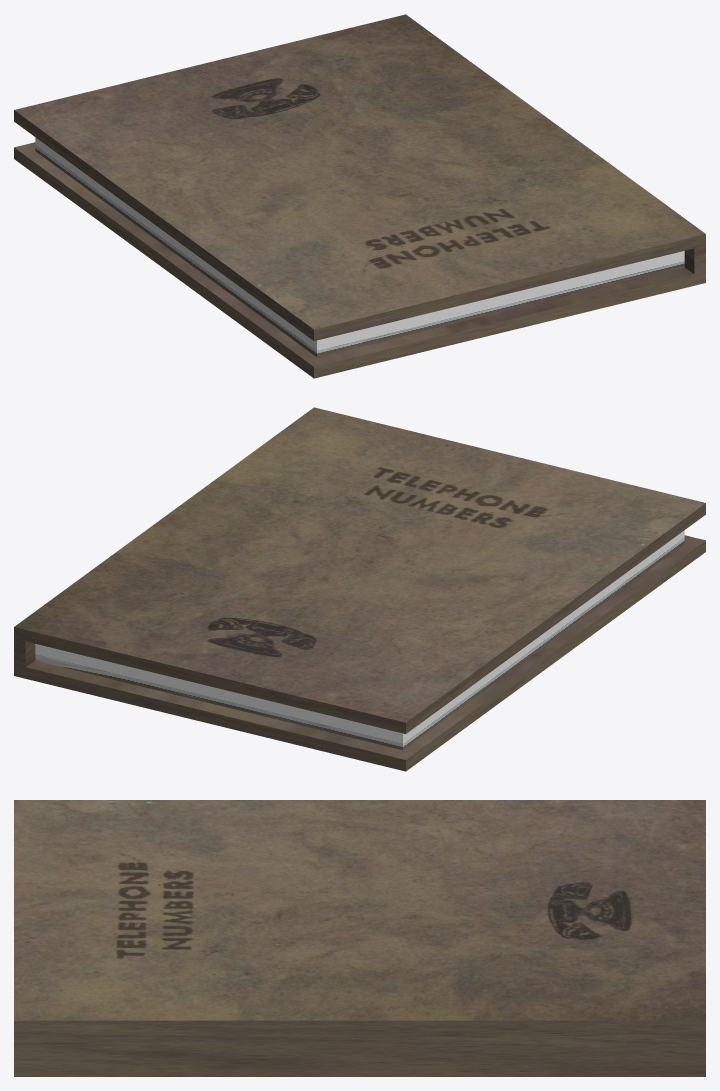
The model's file is phonebook2.fbx.
3 views of the same model, one above another, from view 1: azimuth 30°, elevation 25°; view 2: azimuth 150°, elevation 25°; view 3: azimuth 270°, elevation 25° (orthographic). The views are drawn at different scales.
Visible parts, largest first — view 1: phonebook; view 2: phonebook; view 3: phonebook.
Part boxes in pixels (x1,y1,x2,y2): phonebook: (14, 14, 705, 378); phonebook: (14, 407, 705, 771); phonebook: (14, 800, 705, 1076).
Bounding box in the file's own units: 0.1364 × 0.1809 × 0.0163.
Materials: 1 (1 with a texture image).
